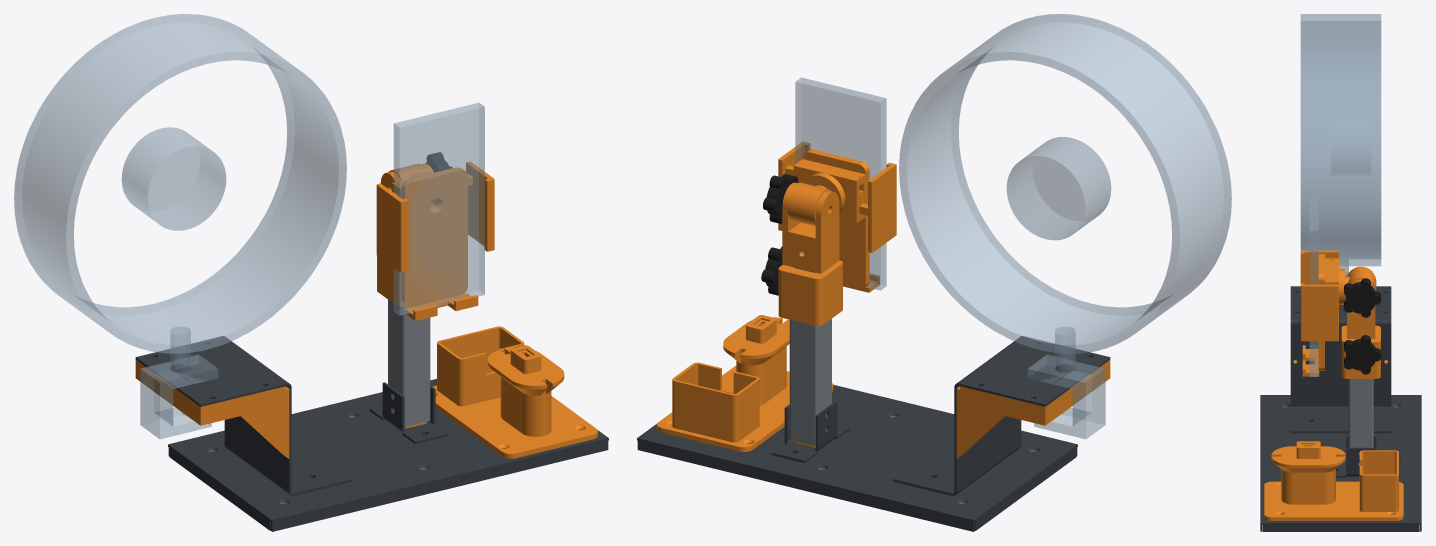
File: phone_stand.glb
The picture shows the model from 3 angles, left to right: view 1: azimuth 30°, elevation 25°; view 2: azimuth 150°, elevation 25°; view 3: azimuth 270°, elevation 25°; orthographic projection. The views are drawn at different scales.
Parts seen in each view (by area): view 1: phone_stand (×4); view 2: phone_stand (×5); view 3: phone_stand (×5).
Boxes of the visible parts, box(x1,y1,x2,y2) form: phone_stand (×4): box(14, 14, 608, 531); phone_stand (×5): box(637, 14, 1231, 531); phone_stand (×5): box(1260, 14, 1421, 531).
Bounding box in the file's own units: 0.46 × 0.4 × 0.16.
